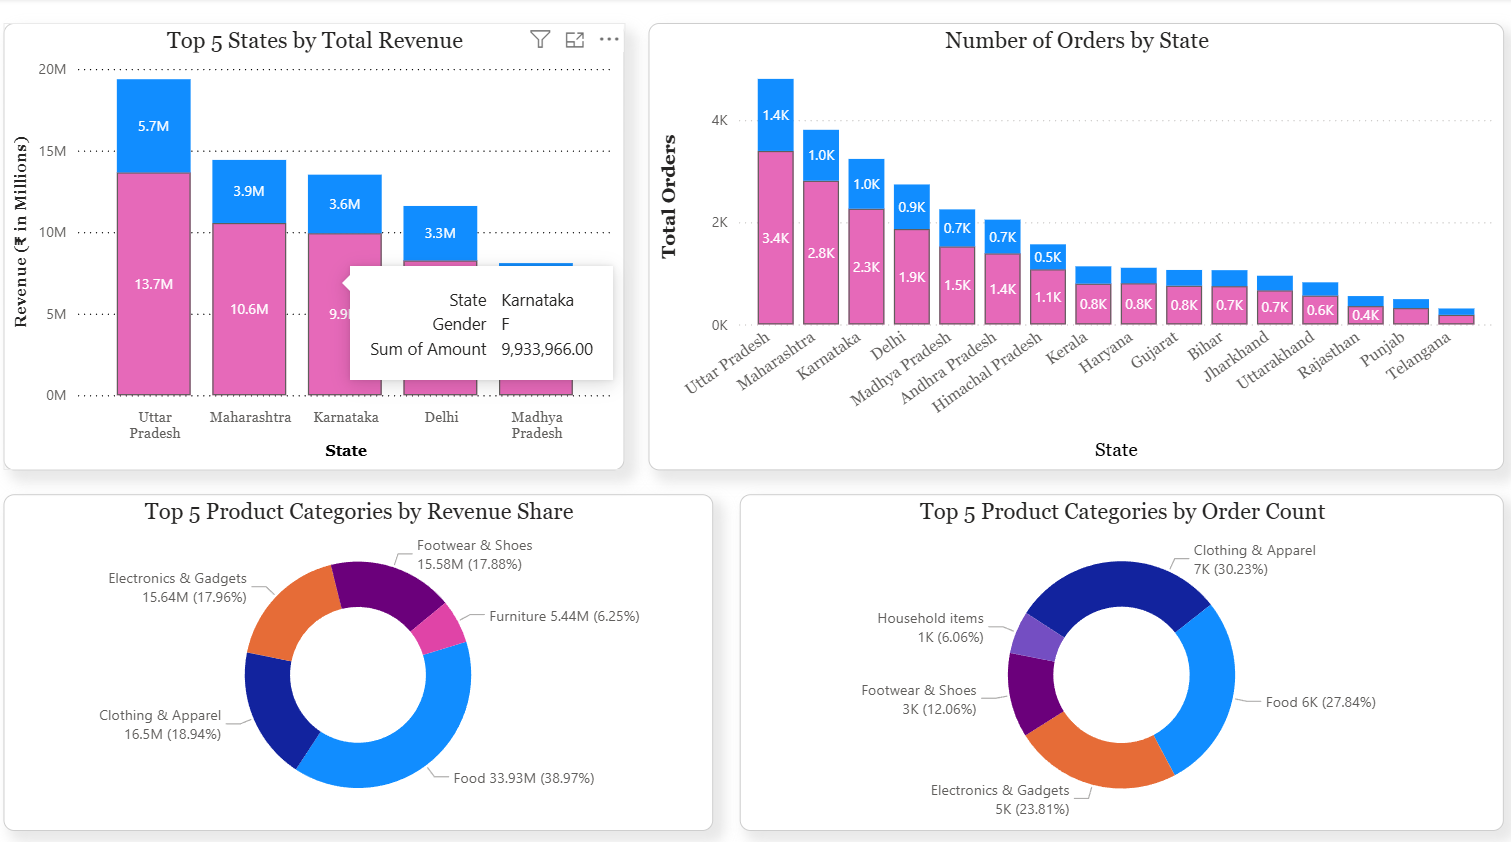

What the dashboard file says about the page in this screenshot:
{"tool":"powerbi","page":{"name":"Page 2","canvas":[1280,720],"ordinal":1},"visuals":[{"type":"donutChart","title":"Top 5 Product Categories by Order Count","fields":{"Category":["Diwali Sales Data.Product_Category"],"Y":["Sum(Diwali Sales Data.Orders)"]},"box":[627.9,416.3,640.7,282.6],"z":0},{"type":"donutChart","title":"Top 5 Product Categories by Revenue Share","fields":{"Category":["Diwali Sales Data.Product_Category"],"Y":["Sum(Diwali Sales Data.Amount)"]},"box":[10,416.2,595,282.5],"z":1000},{"type":"columnChart","title":"Top 5 States by Total Revenue ","fields":{"Category":["Diwali Sales Data.State"],"Y":["Sum(Diwali Sales Data.Amount)"],"Series":["Diwali Sales Data.Gender"]},"box":[10.5,20.9,520.9,375.6],"z":3000},{"type":"columnChart","title":"Number of Orders by State","fields":{"Category":["Diwali Sales Data.State"],"Y":["Sum(Diwali Sales Data.Orders)"],"Series":["Diwali Sales Data.Gender"]},"box":[551.2,20.9,717.4,375.6],"z":4000}]}

Visuals, with their boxes in screenshot pixels (x1, y1, x2, y2), scaled from the page's 1280x720 canvas onto the 1511x842 screenshot:
"Top 5 Product Categories by Order Count" donutChart: pyautogui.locateOnScreen(741, 487, 1498, 817)
"Top 5 Product Categories by Revenue Share" donutChart: pyautogui.locateOnScreen(12, 487, 714, 817)
"Top 5 States by Total Revenue " columnChart: pyautogui.locateOnScreen(12, 24, 627, 464)
"Number of Orders by State" columnChart: pyautogui.locateOnScreen(651, 24, 1498, 464)
